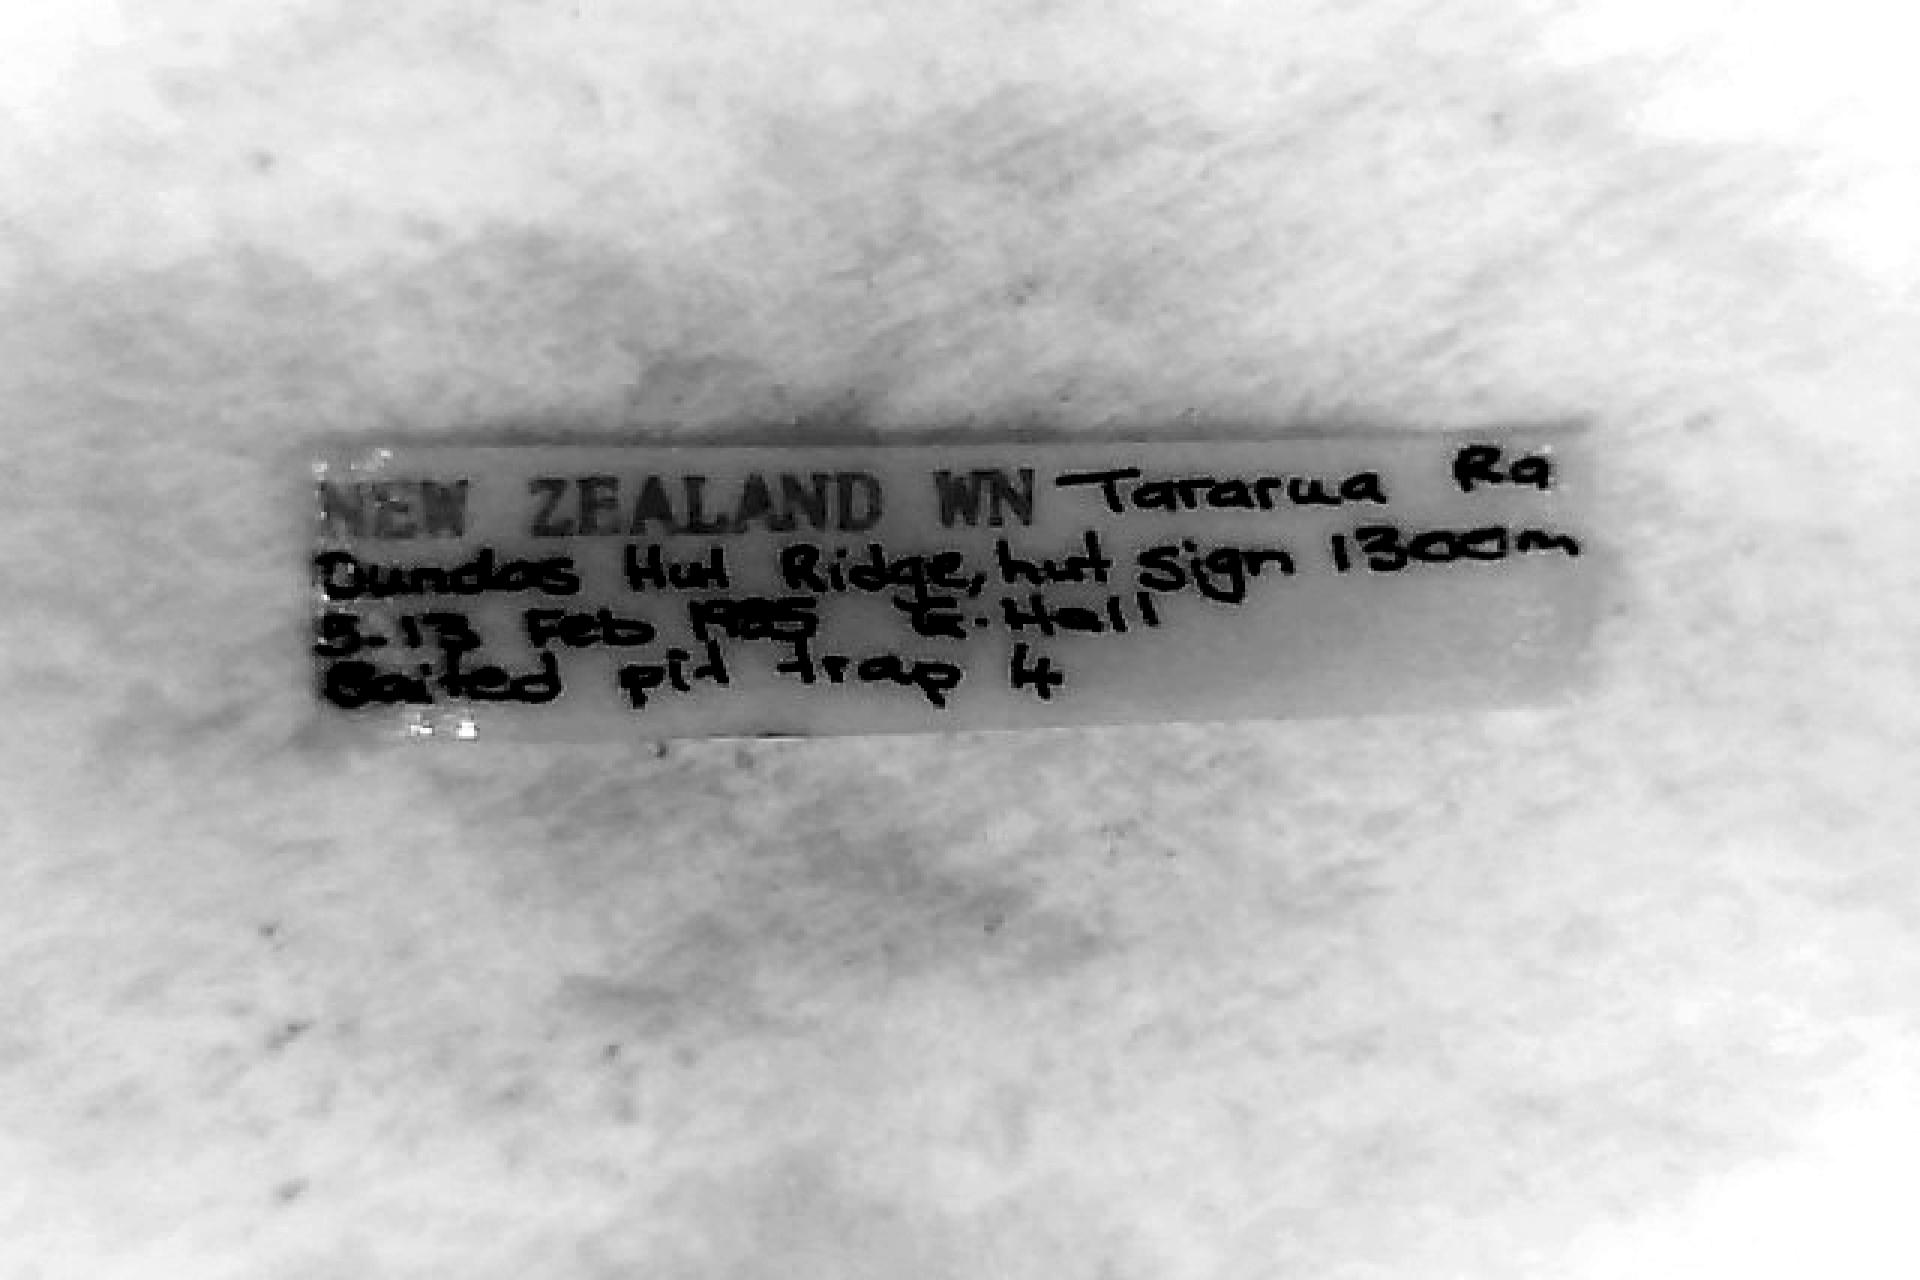mixed_label: (314, 427, 1594, 737)
